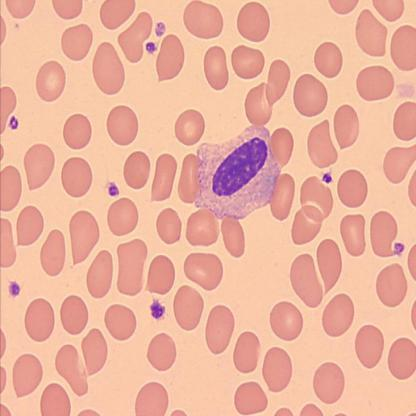Metamyelocyte: (193, 120, 283, 222)
